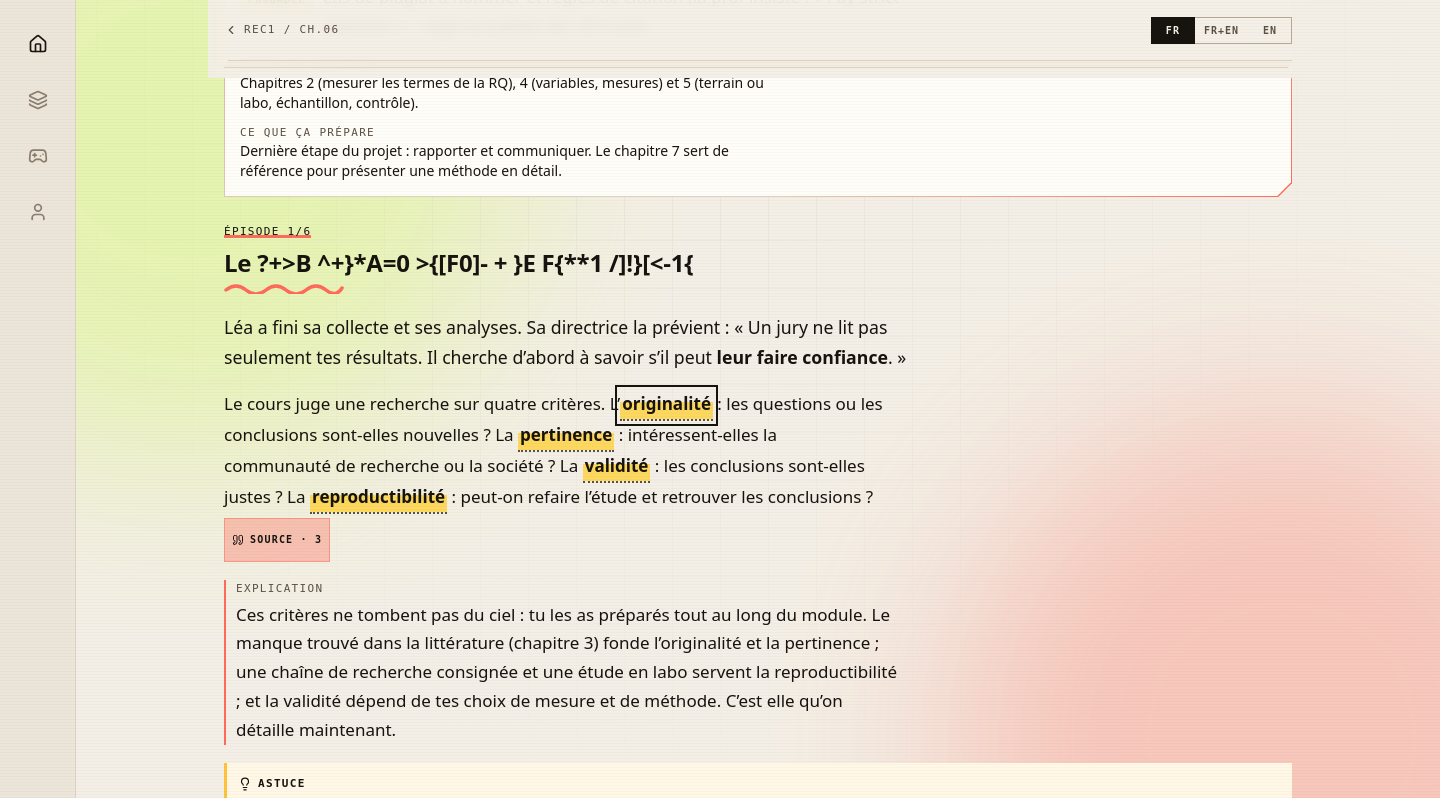
Test: lecteur REC1-05 › terme : Entrée ouvre la bulle (focus dedans), Échap la ferme et rend le focus
The image size is (1440, 798).
(page scrolled)
Click the button with class "term" showing "originalité" at (667, 406), box top-left (620, 390), bottom-right (713, 421)
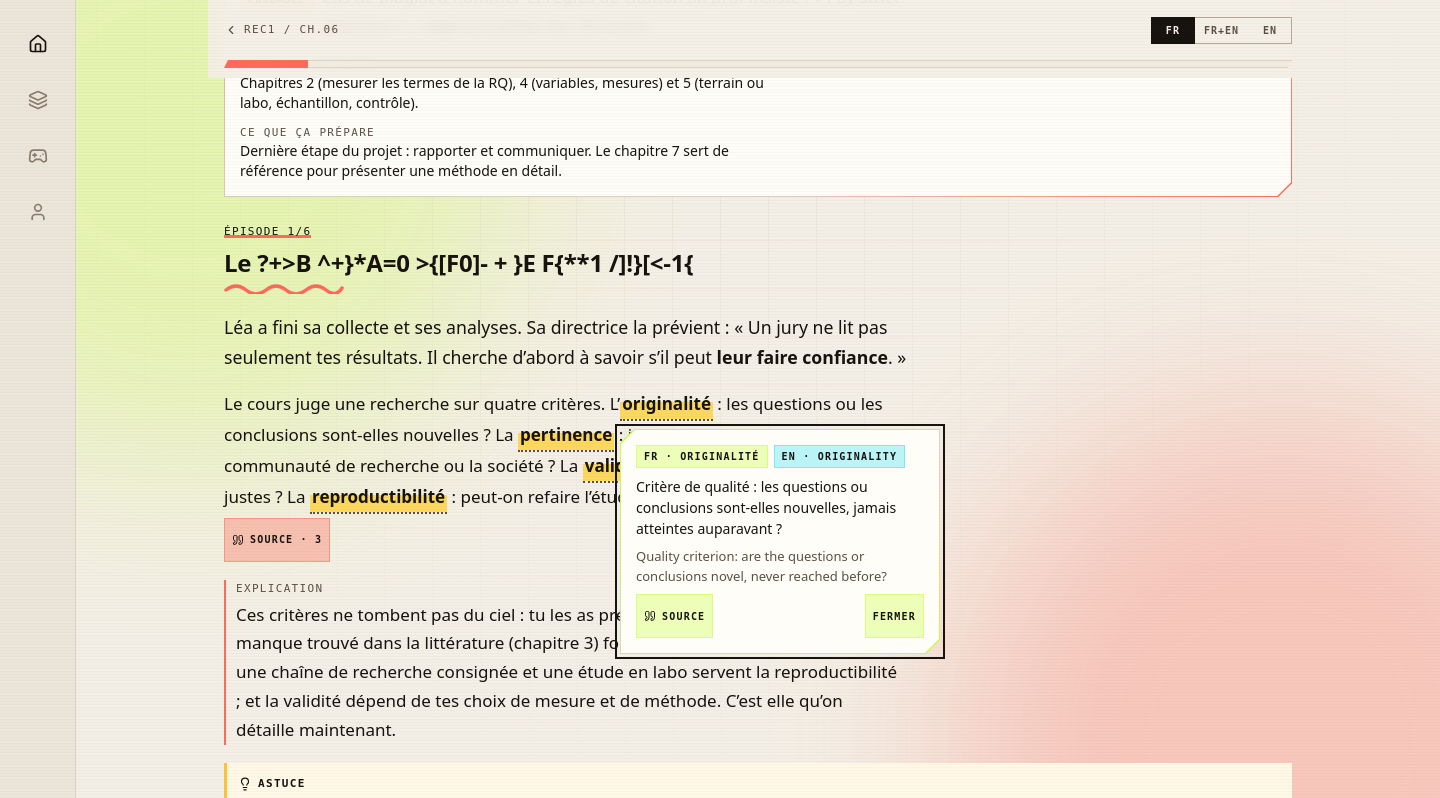
Press Escape
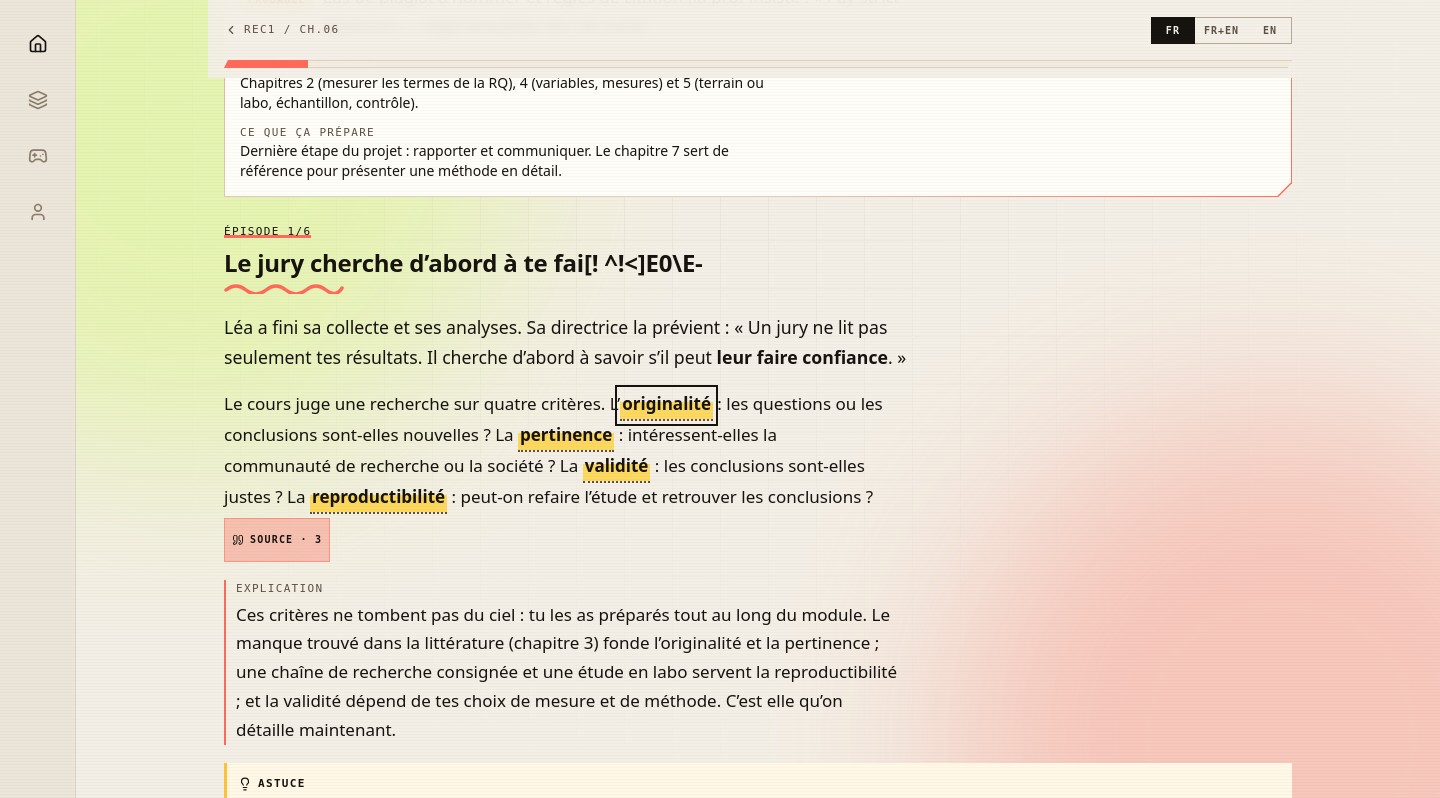
Result: the dialog is gone
